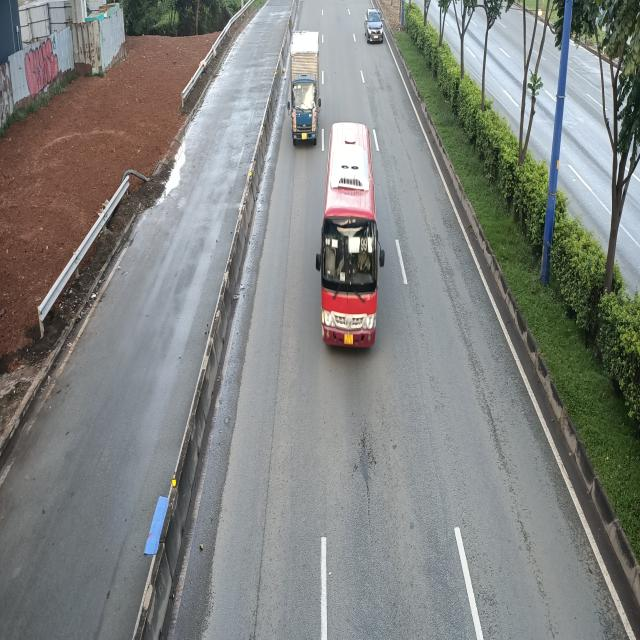car: (366, 8, 385, 44)
coach: (317, 119, 386, 348)
truck: (286, 32, 322, 146)
